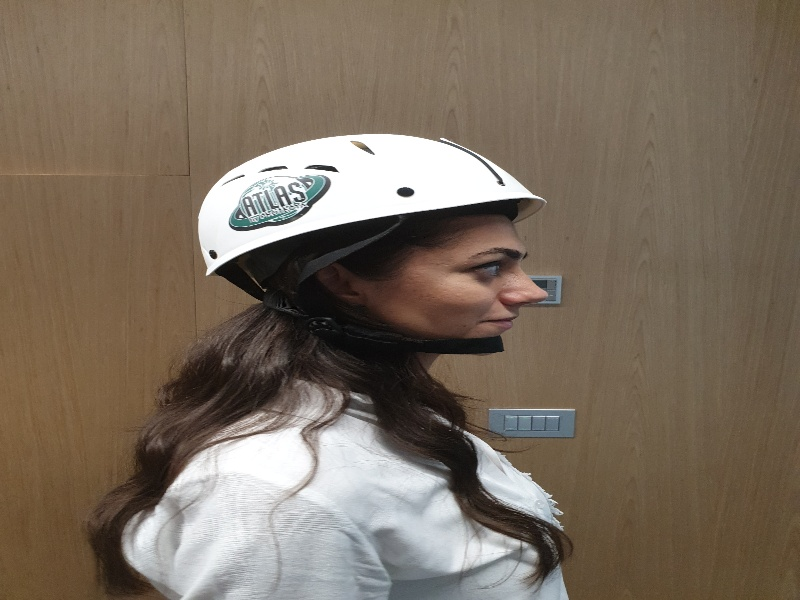Baret: (196, 133, 550, 273)
